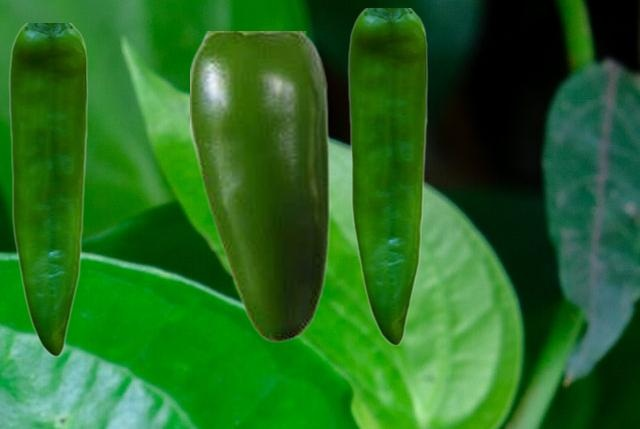green_chili: (190, 31, 329, 342), (347, 8, 427, 344), (8, 23, 87, 355)
